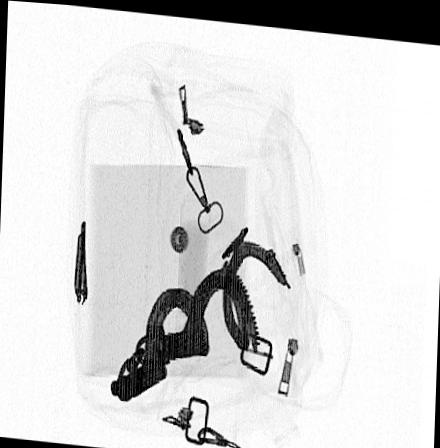HandCuffs: (108, 236, 290, 401)
